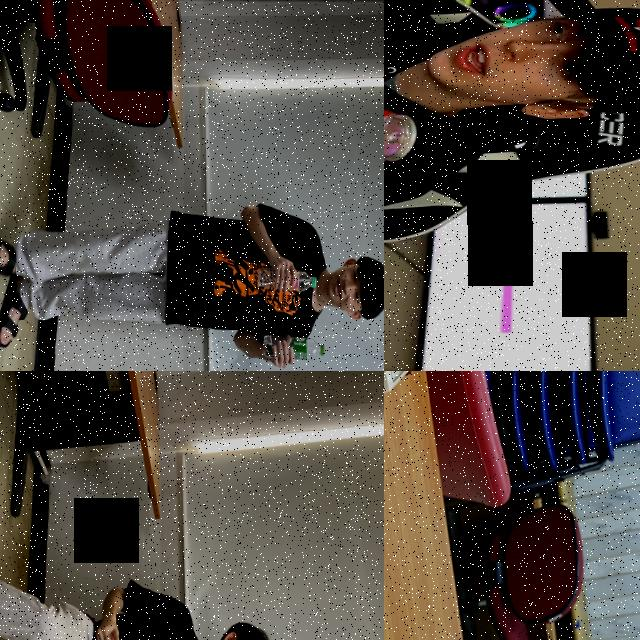bottle: (258, 334, 326, 370), (258, 266, 318, 296)
